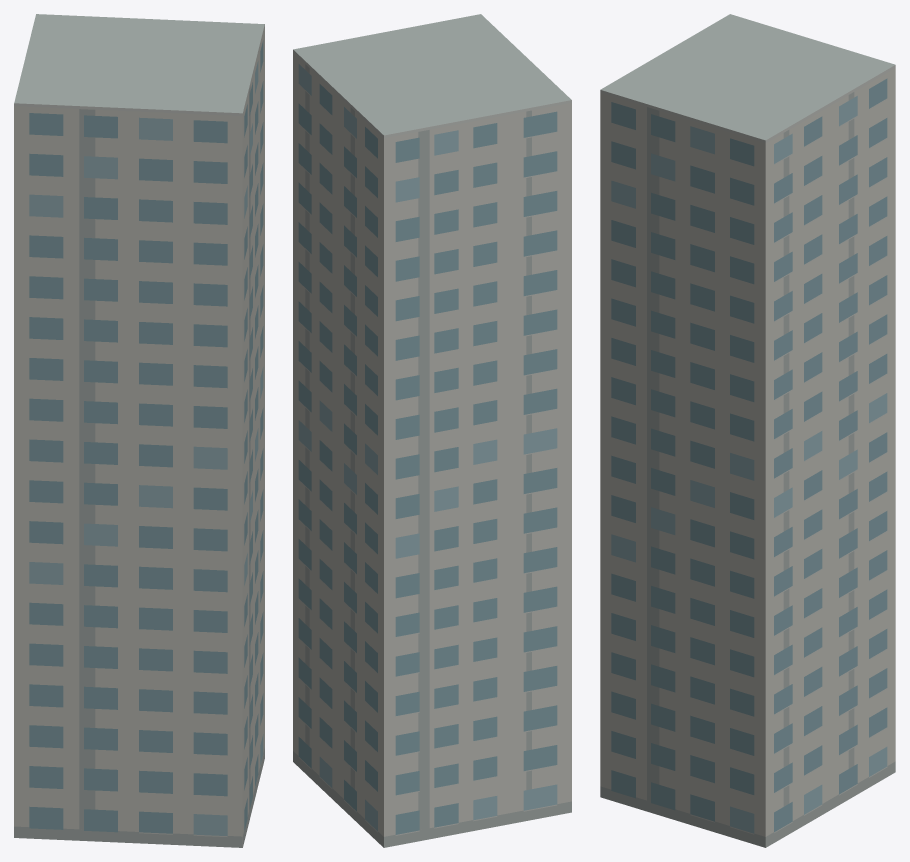
The model's file is residential-4ac68dad-5338-44e0-8ba5-4c9b9984fbfc.glb.
The picture shows the model from 3 angles, left to right: view 1: azimuth 30°, elevation 25°; view 2: azimuth 150°, elevation 25°; view 3: azimuth 270°, elevation 25°; orthographic projection. The views are drawn at different scales.
Visible parts, largest first — view 1: residential-4ac68dad-5338-44e0-8ba5-4c9b9984fbfc.tmp; view 2: residential-4ac68dad-5338-44e0-8ba5-4c9b9984fbfc.tmp; view 3: residential-4ac68dad-5338-44e0-8ba5-4c9b9984fbfc.tmp.
Boxes of the visible parts, box(x1,y1,x2,y2) form: residential-4ac68dad-5338-44e0-8ba5-4c9b9984fbfc.tmp: box(14, 14, 264, 847); residential-4ac68dad-5338-44e0-8ba5-4c9b9984fbfc.tmp: box(293, 14, 571, 847); residential-4ac68dad-5338-44e0-8ba5-4c9b9984fbfc.tmp: box(600, 14, 895, 847).
Bounding box in the file's own units: 23.01 × 60 × 22.72.
